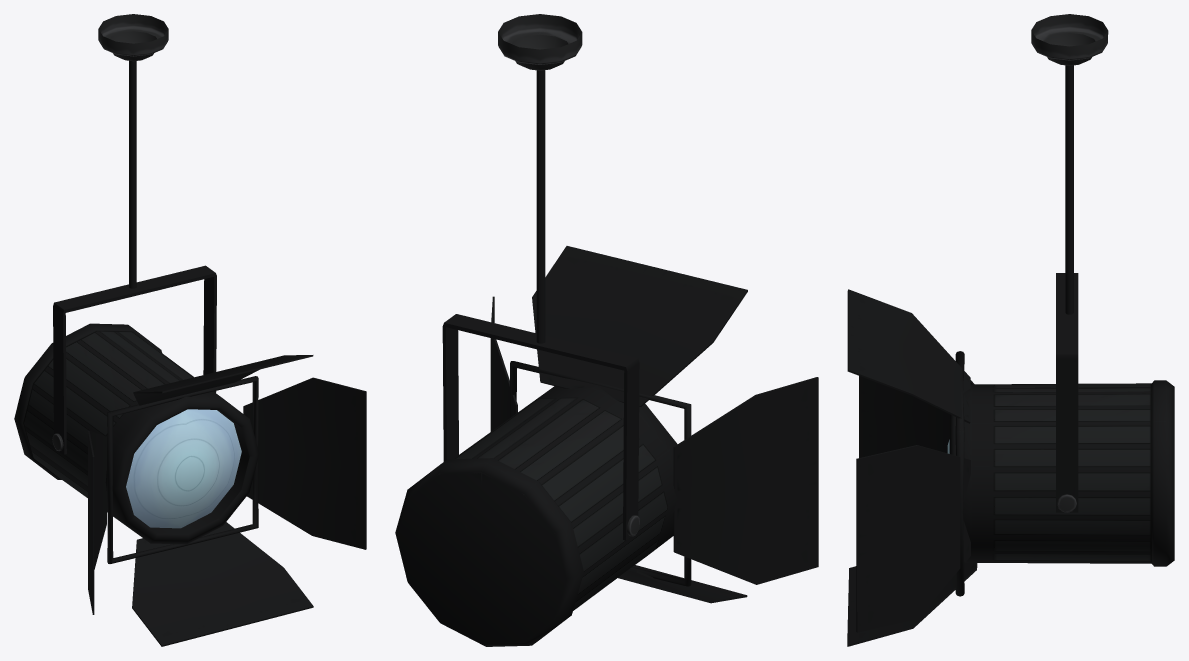
Rendered from stage hanging Light.fbx.
3 views of the same model, side by side, from view 1: azimuth 30°, elevation 25°; view 2: azimuth 150°, elevation 25°; view 3: azimuth 270°, elevation 25° (orthographic). The views are drawn at different scales.
Parts seen in each view (by area): view 1: StageLight_Base1, StageLight_Pane3, StageLight_Pane1, StageLight_Glass1, LightFrame_Support1, FrameCornerPiece4, LightFitting, StageLight_Pane2, StageLight_Pane, LightPole1; view 2: StageLight_Base1, StageLight_Pane2, StageLight_Pane, LightFrame_Support1, LightFitting, LightPole1, FrameCornerPiece4, StageLight_Pane3, StageLight_Pane1; view 3: StageLight_Base1, StageLight_Pane3, StageLight_Pane, StageLight_Pane2, LightFrame_Support1, LightFitting, LightPole1, StageLight_Pane1, FrameCornerPiece4.
Part boxes in pixels (left/top/right/bottom): StageLight_Base1: left=14, top=323, right=259, bottom=544; StageLight_Pane3: left=243, top=377, right=366, bottom=549; StageLight_Pane1: left=132, top=522, right=313, bottom=646; StageLight_Glass1: left=126, top=409, right=241, bottom=528; LightFrame_Support1: left=53, top=265, right=216, bottom=454; FrameCornerPiece4: left=107, top=376, right=258, bottom=563; LightFitting: left=98, top=14, right=168, bottom=61; StageLight_Pane2: left=88, top=430, right=106, bottom=614; StageLight_Pane: left=133, top=355, right=313, bottom=405; LightPole1: left=129, top=60, right=136, bottom=288; StageLight_Base1: left=395, top=385, right=677, bottom=646; StageLight_Pane2: left=673, top=377, right=818, bottom=584; StageLight_Pane: left=532, top=246, right=747, bottom=406; LightFrame_Support1: left=442, top=314, right=639, bottom=540; LightFitting: left=498, top=14, right=582, bottom=70; LightPole1: left=536, top=70, right=545, bottom=343; FrameCornerPiece4: left=510, top=361, right=691, bottom=586; StageLight_Pane3: left=490, top=296, right=517, bottom=431; StageLight_Pane1: left=618, top=565, right=747, bottom=603; StageLight_Base1: left=949, top=380, right=1174, bottom=566; StageLight_Pane3: left=856, top=445, right=970, bottom=632; StageLight_Pane: left=847, top=289, right=970, bottom=423; StageLight_Pane2: left=859, top=376, right=974, bottom=457; LightFrame_Support1: left=1056, top=273, right=1078, bottom=512; LightFitting: left=1031, top=14, right=1108, bottom=65; LightPole1: left=1065, top=65, right=1073, bottom=314; StageLight_Pane1: left=847, top=563, right=977, bottom=646; FrameCornerPiece4: left=955, top=351, right=964, bottom=596.
Size of the model in its own units: 9.06 by 16.73 by 8.59.
